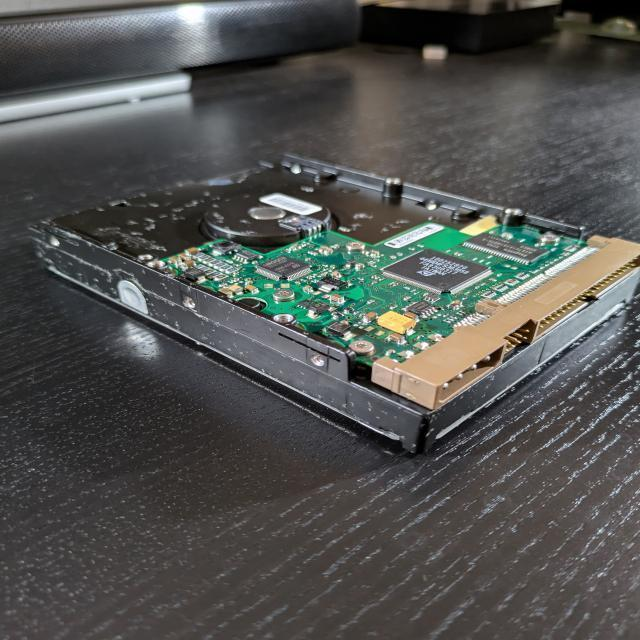DISK: (29, 153, 640, 455)
